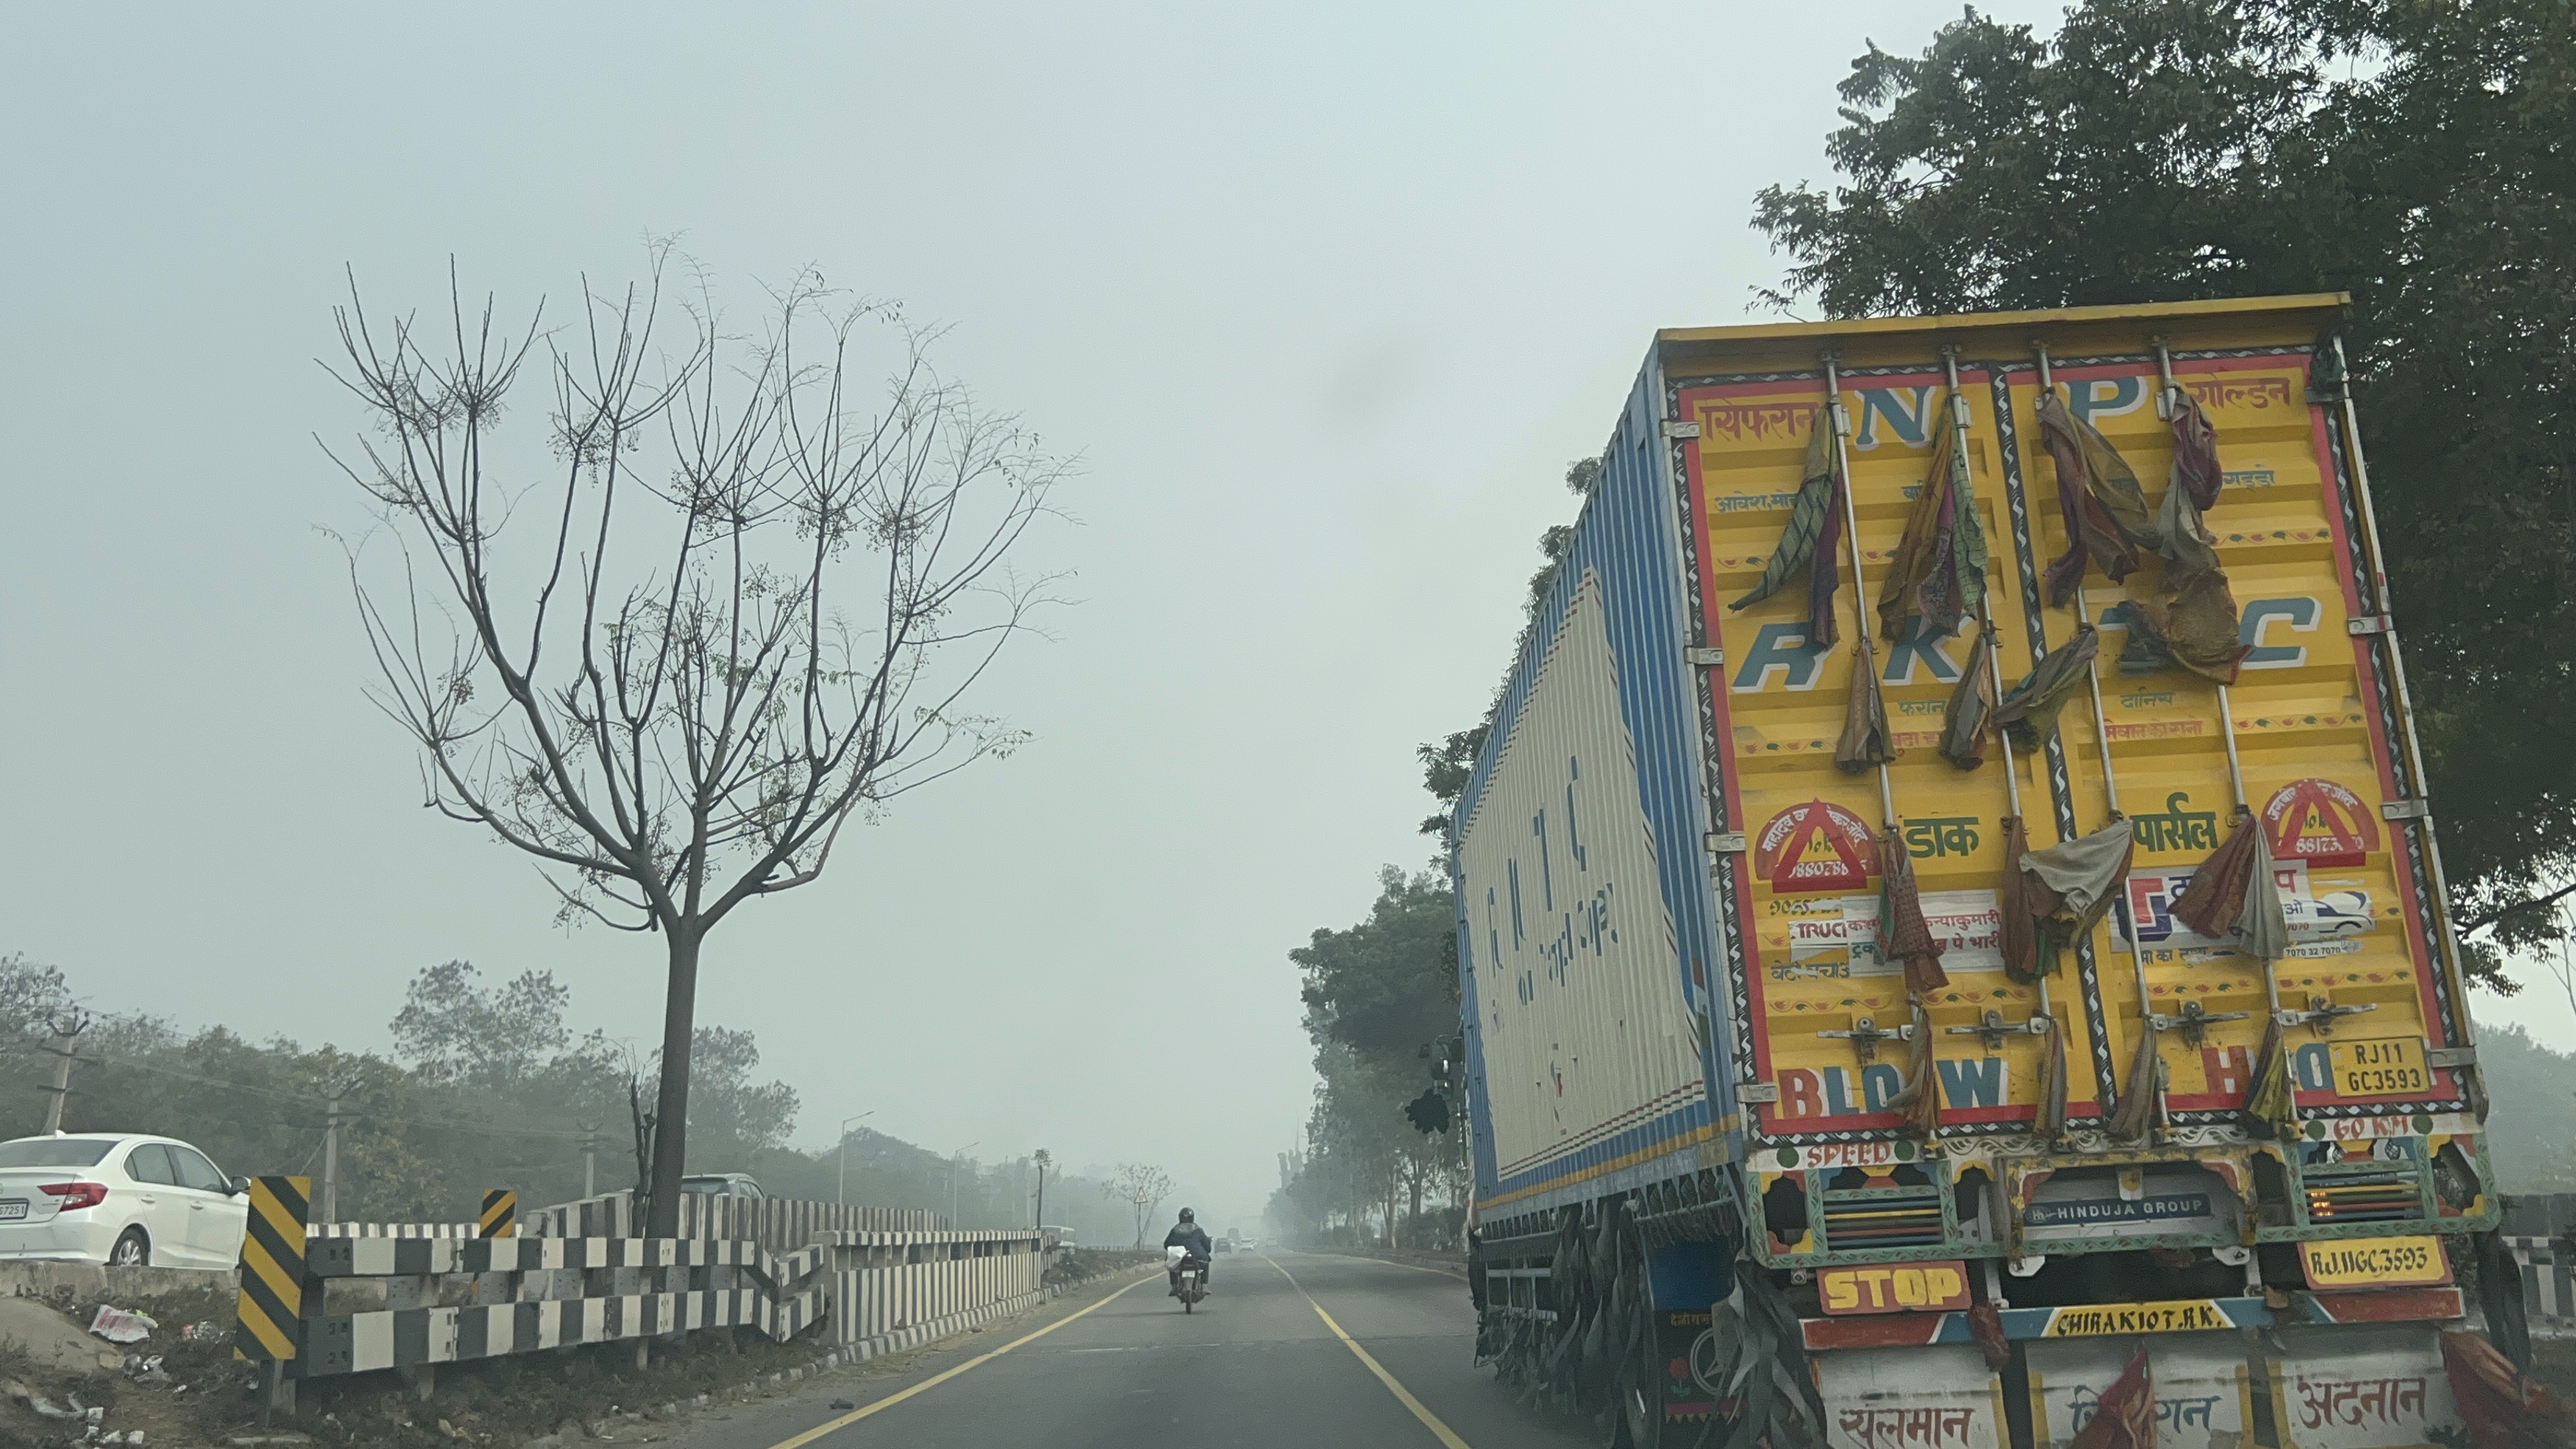General: (237, 1168, 317, 1378), (471, 1177, 525, 1244)
